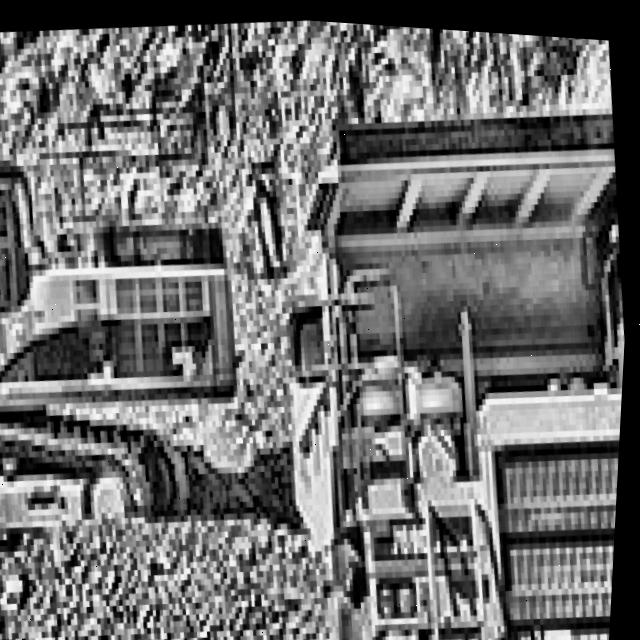dump_truck: (217, 13, 640, 640)
excavator: (0, 7, 301, 624)
